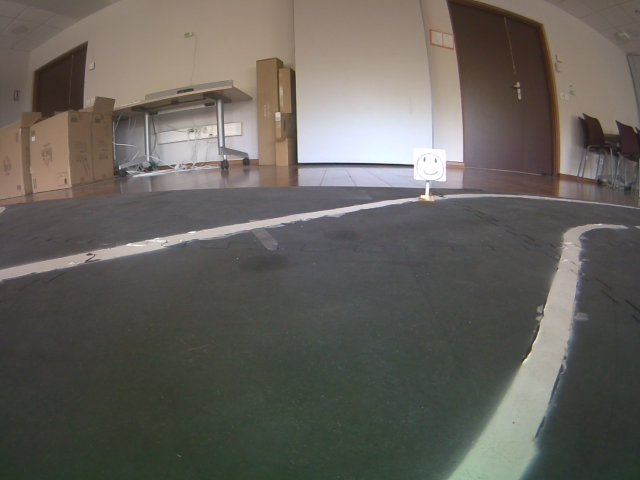Smiley: (414, 146, 448, 183)
